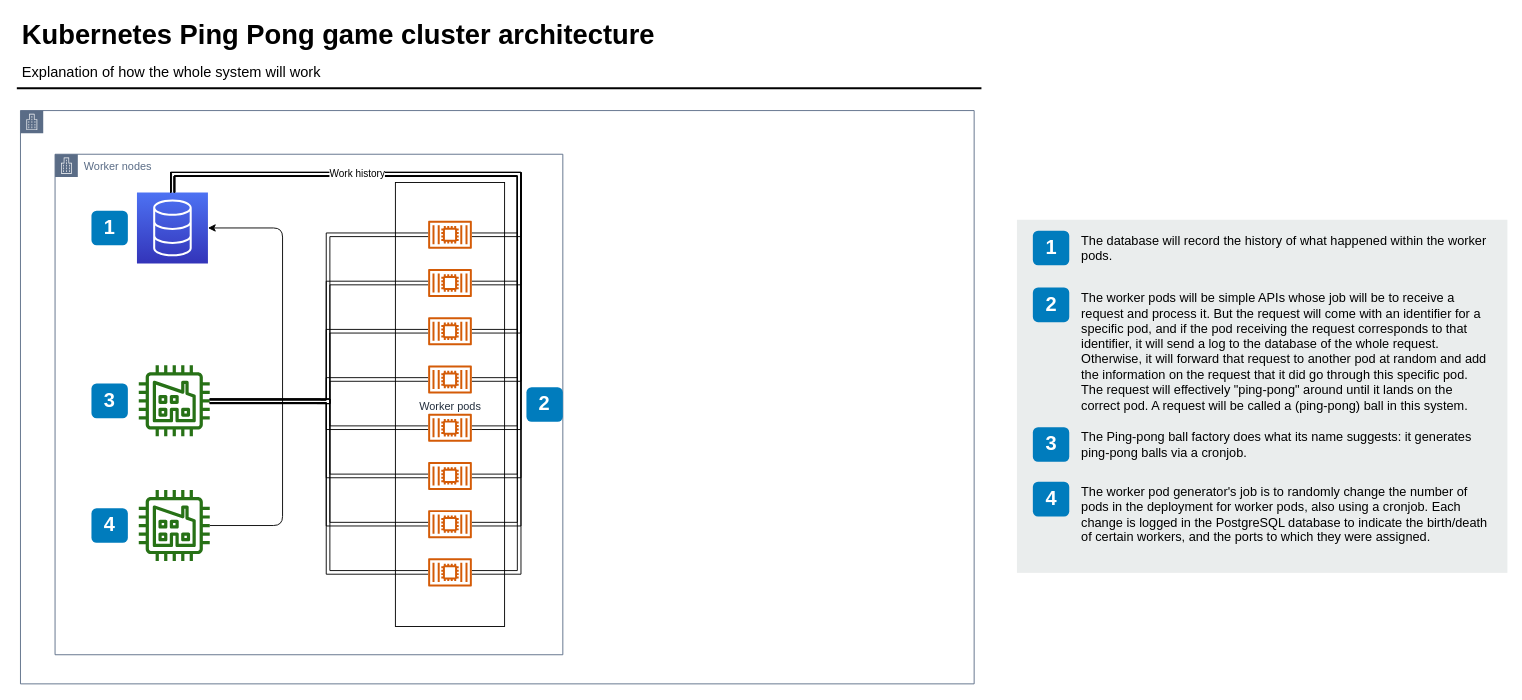
This 1522x700 diagram has some shape labels left out. Each missing label, with the box of its shape:
Deployment: (394, 182, 505, 627)
Kubernetes Cluster: (20, 110, 974, 684)
Ping-pong ball Factory: (138, 365, 209, 436)
PostgreSQL Database: (136, 192, 208, 263)
Worker pod generator: (138, 490, 209, 561)
